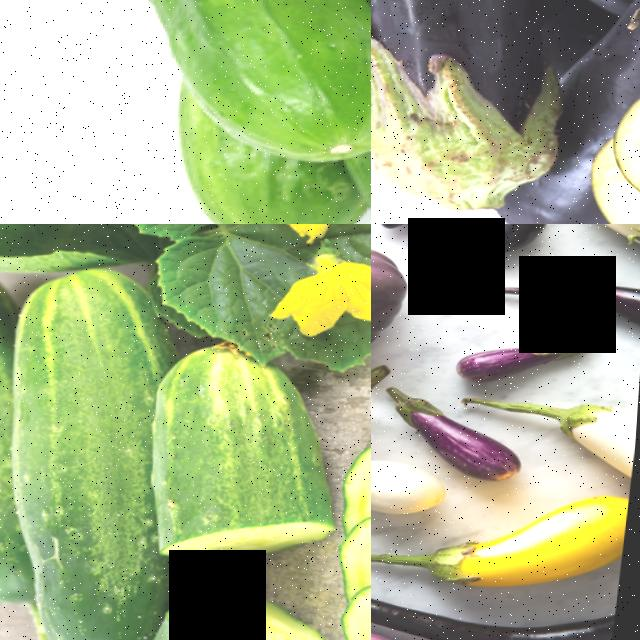cucumber: (0, 266, 196, 640), (0, 0, 371, 155), (138, 348, 354, 571), (117, 588, 351, 640), (0, 264, 22, 552)
eggplant: (371, 0, 583, 129), (388, 393, 532, 479), (452, 325, 606, 389), (371, 234, 414, 355), (371, 454, 453, 516)
